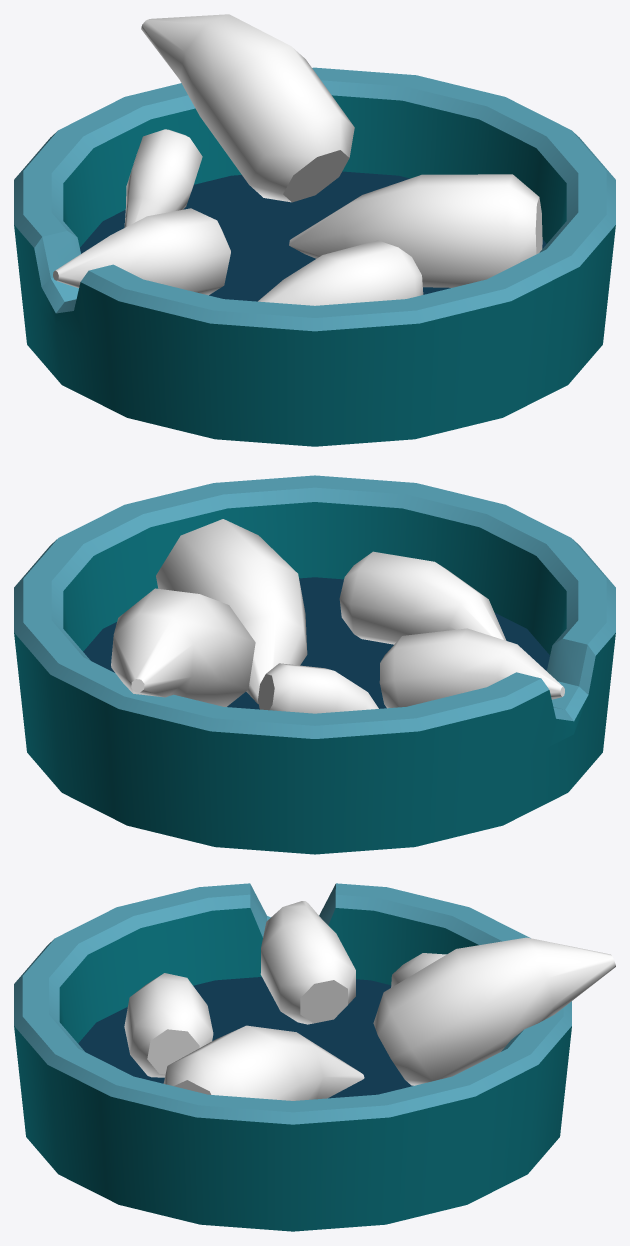
File: item02.fbx
3 renders of one model, top to bottom at view 1: azimuth 30°, elevation 25°; view 2: azimuth 150°, elevation 25°; view 3: azimuth 270°, elevation 25°, orthographic. The views are drawn at different scales.
Visible parts, largest first — view 1: item02; view 2: item02; view 3: item02.
Part boxes in pixels (<box>): item02: <box>14,14,615,446</box>; item02: <box>14,475,615,854</box>; item02: <box>14,883,615,1231</box>.
Size of the model in its own units: 30.51 by 11.25 by 32.75.
2 materials, 1 textured.
